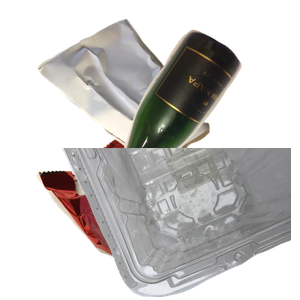glass: (87, 27, 300, 207)
paper: (35, 10, 237, 178)
plastic: (60, 148, 300, 300)
trash: (34, 136, 253, 300)
